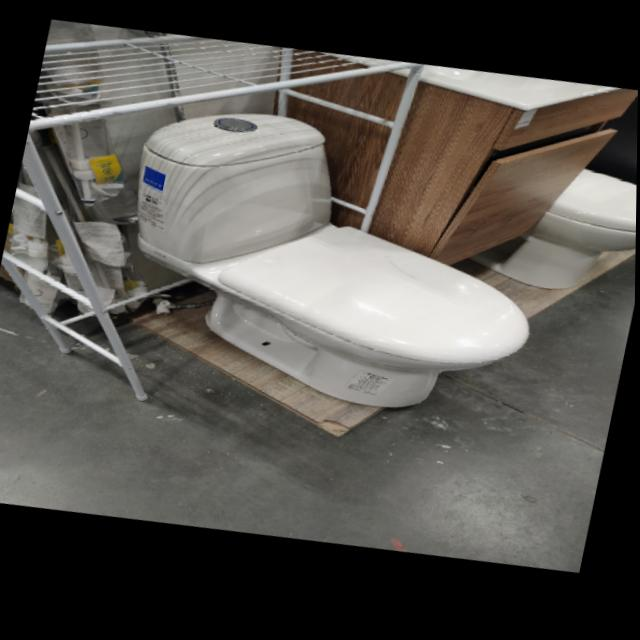toilet: (95, 77, 569, 456), (463, 155, 638, 319)
